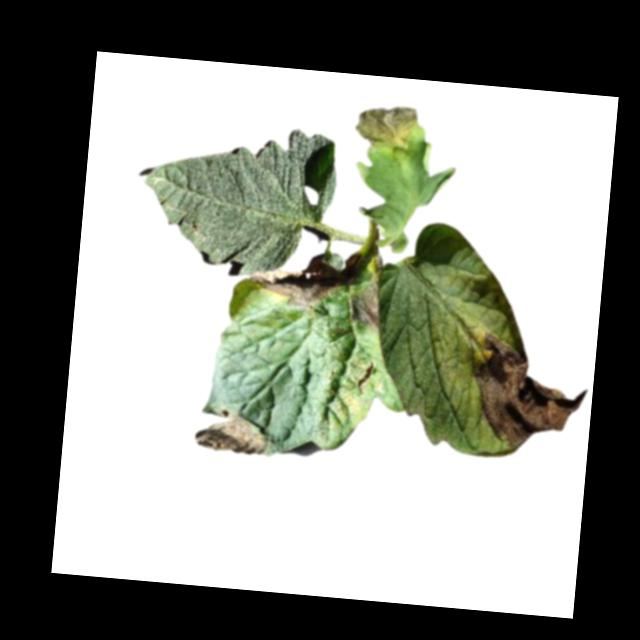Late_blight: (466, 326, 587, 454), (245, 249, 339, 311), (193, 407, 272, 457), (352, 103, 419, 156), (346, 274, 389, 334)
healthy: (137, 116, 341, 282)
